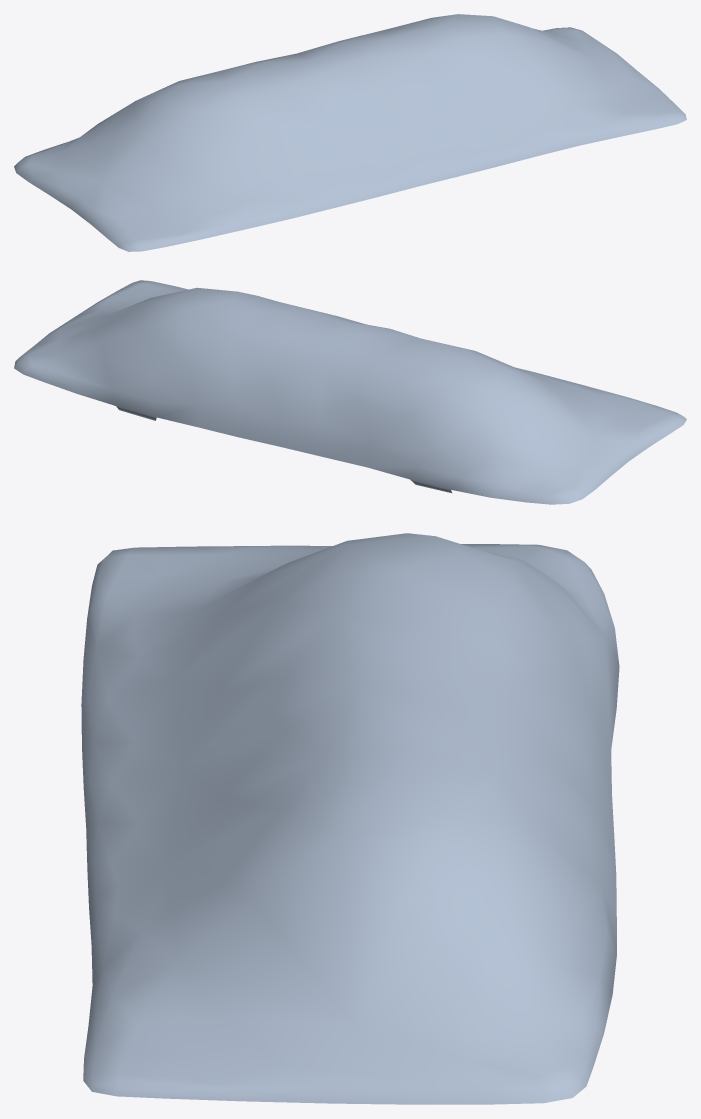
File: snow_drift_4.glb
3 renders of one model, top to bottom at view 1: azimuth 30°, elevation 25°; view 2: azimuth 150°, elevation 25°; view 3: azimuth 270°, elevation 25°, orthographic. The views are drawn at different scales.
Parts seen in each view (by area): view 1: Snow; view 2: Snow; view 3: Snow.
Part boxes in pixels (x1,y1,x2,y2): Snow: (14,14,686,251); Snow: (14,280,686,504); Snow: (81,533,619,1104).
Bounding box in the file's own units: 4.02 × 0.5941 × 1.65.
